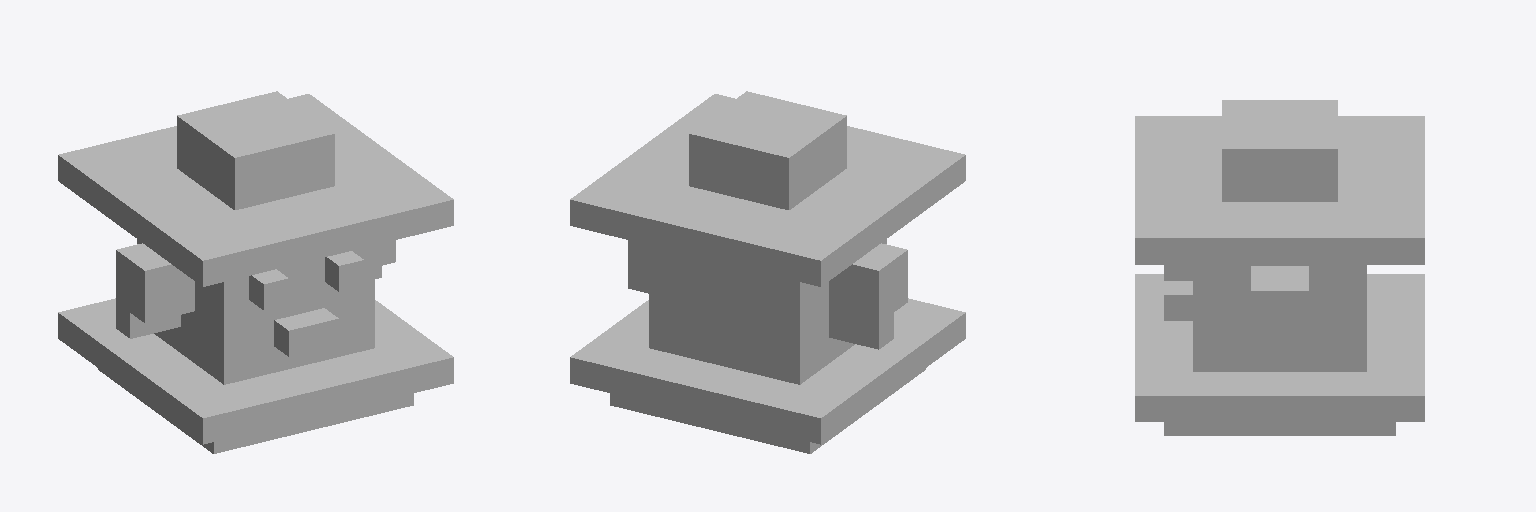
Rendered from mr. potatohead -like.obj.
3 views of the same model, side by side, from view 1: azimuth 30°, elevation 25°; view 2: azimuth 150°, elevation 25°; view 3: azimuth 270°, elevation 25° (orthographic).
Parts seen in each view (by area): view 1: object 1; view 2: object 1; view 3: object 1.
Boxes of the visible parts, box(x1,y1,x2,y2) form: object 1: box(58, 91, 453, 453); object 1: box(570, 91, 965, 453); object 1: box(1135, 100, 1424, 435).
Size of the model in its own units: 1 by 1 by 1.